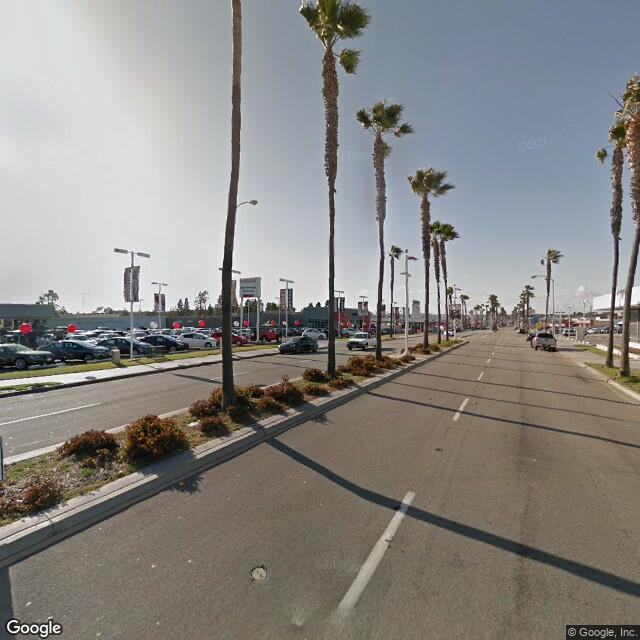litter: (87, 525, 110, 533)
